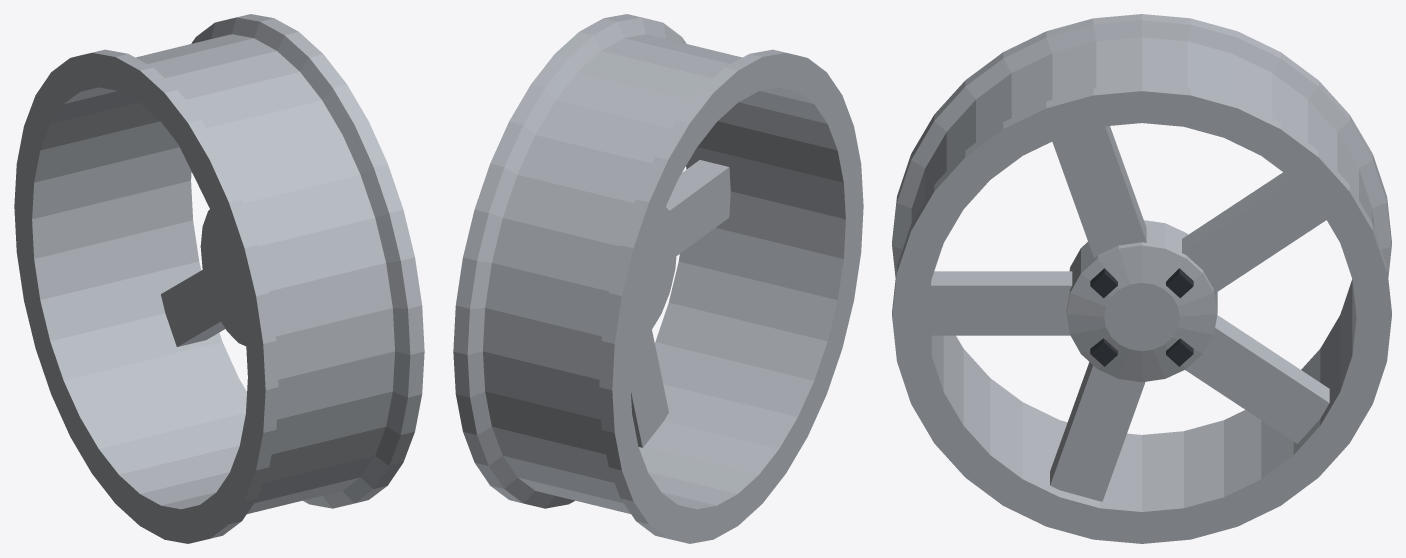
The model's file is rim_5spoke.glb.
The picture shows the model from 3 angles, left to right: view 1: azimuth 30°, elevation 25°; view 2: azimuth 150°, elevation 25°; view 3: azimuth 270°, elevation 25°; orthographic projection.
Parts seen in each view (by area): view 1: rim; view 2: rim; view 3: rim.
Part boxes in pixels (x1,y1,x2,y2): rim: (14, 14, 424, 543); rim: (453, 14, 863, 543); rim: (892, 14, 1391, 543).
Bounding box in the file's own units: 0.15 × 0.397 × 0.397.
1 material, 1 textured.
